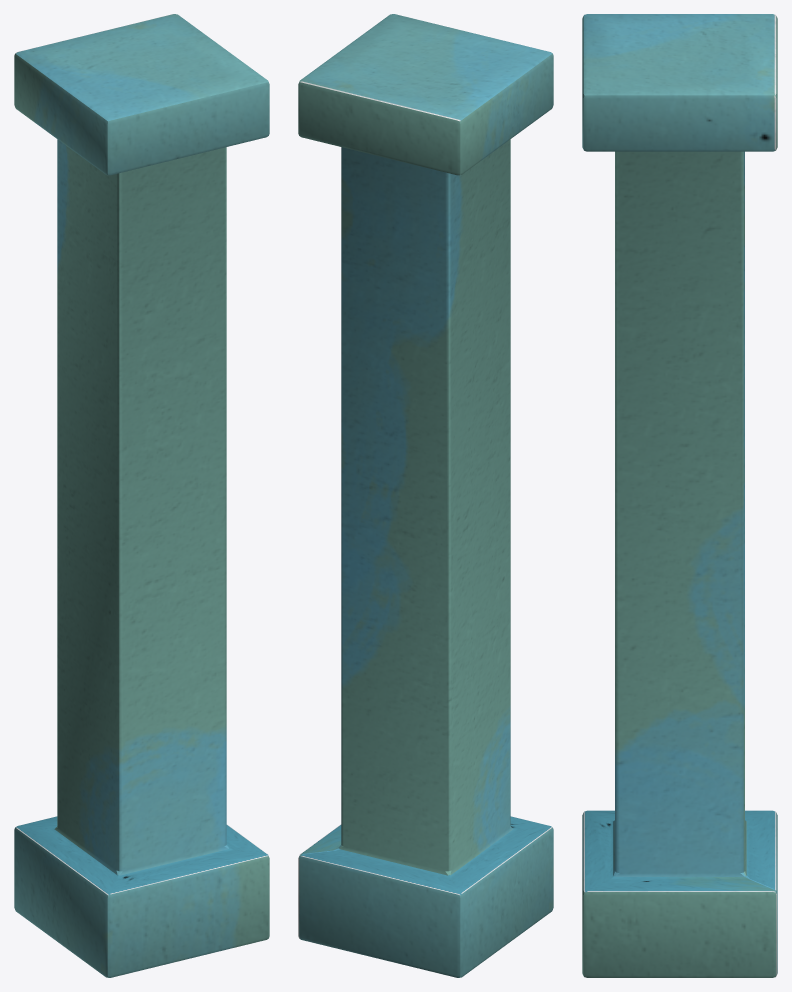
File: TOMB_PILLAR_THIN.obj
3 renders of one model, left to right at view 1: azimuth 30°, elevation 25°; view 2: azimuth 150°, elevation 25°; view 3: azimuth 270°, elevation 25°, orthographic. The views are drawn at different scales.
Visible parts, largest first — view 1: TOMB_PILLAR_THIN.001; view 2: TOMB_PILLAR_THIN.001; view 3: TOMB_PILLAR_THIN.001.
Boxes of the visible parts, <box> form: TOMB_PILLAR_THIN.001: <box>14,14,269,977</box>; TOMB_PILLAR_THIN.001: <box>298,14,553,977</box>; TOMB_PILLAR_THIN.001: <box>582,14,777,977</box>.
Size of the model in its own units: 0.6 by 3 by 0.6.
Materials: 2 (2 with a texture image).
